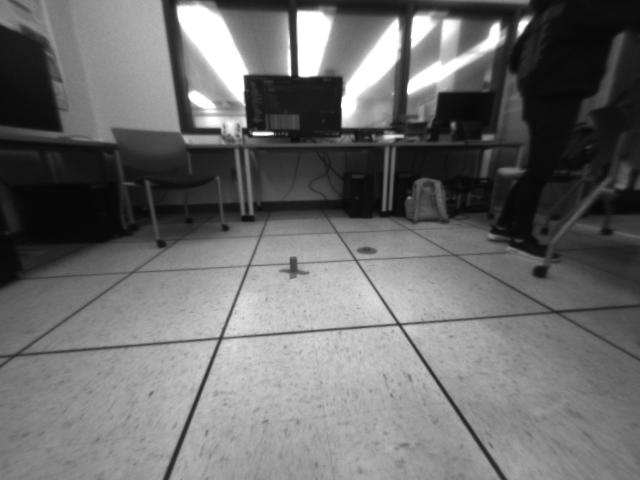X: (277, 255, 311, 280)
